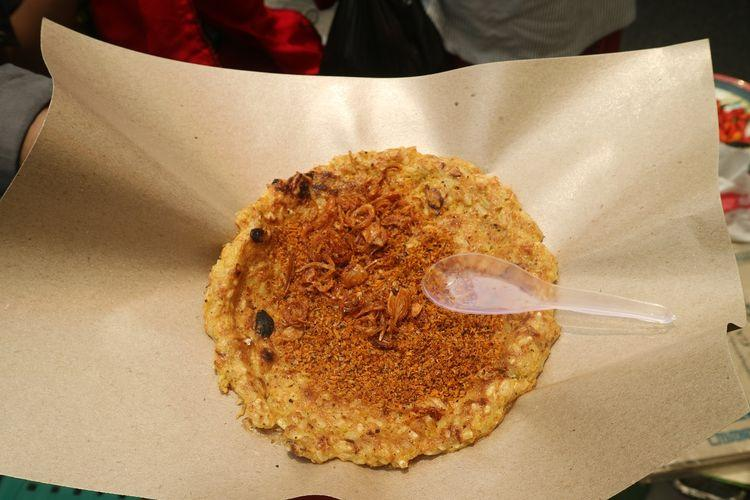kerak_telor: (204, 148, 562, 470)
